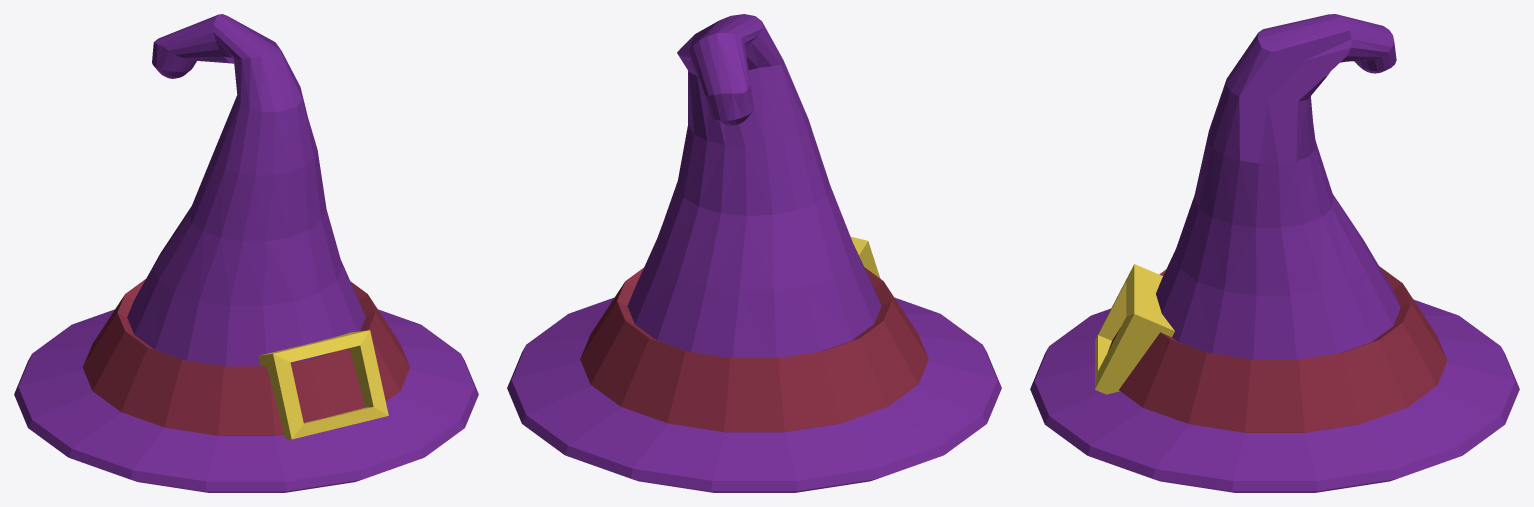
The model's file is witch_hat.glb.
The picture shows the model from 3 angles, left to right: view 1: azimuth 30°, elevation 25°; view 2: azimuth 150°, elevation 25°; view 3: azimuth 270°, elevation 25°; orthographic projection. The views are drawn at different scales.
Visible parts, largest first — view 1: Cylinder, Cylinder.001, Cube; view 2: Cylinder, Cylinder.001; view 3: Cylinder, Cylinder.001, Cube.
Boxes of the visible parts, x1,y1,x2,y2 form: Cylinder: (14, 14, 478, 492); Cylinder.001: (82, 279, 410, 435); Cube: (258, 330, 388, 439); Cylinder: (507, 14, 1001, 492); Cylinder.001: (580, 267, 928, 432); Cylinder: (1030, 14, 1519, 492); Cylinder.001: (1108, 266, 1447, 432); Cube: (1095, 264, 1174, 394).
Size of the model in its own units: 1.9 by 1.67 by 1.93.
